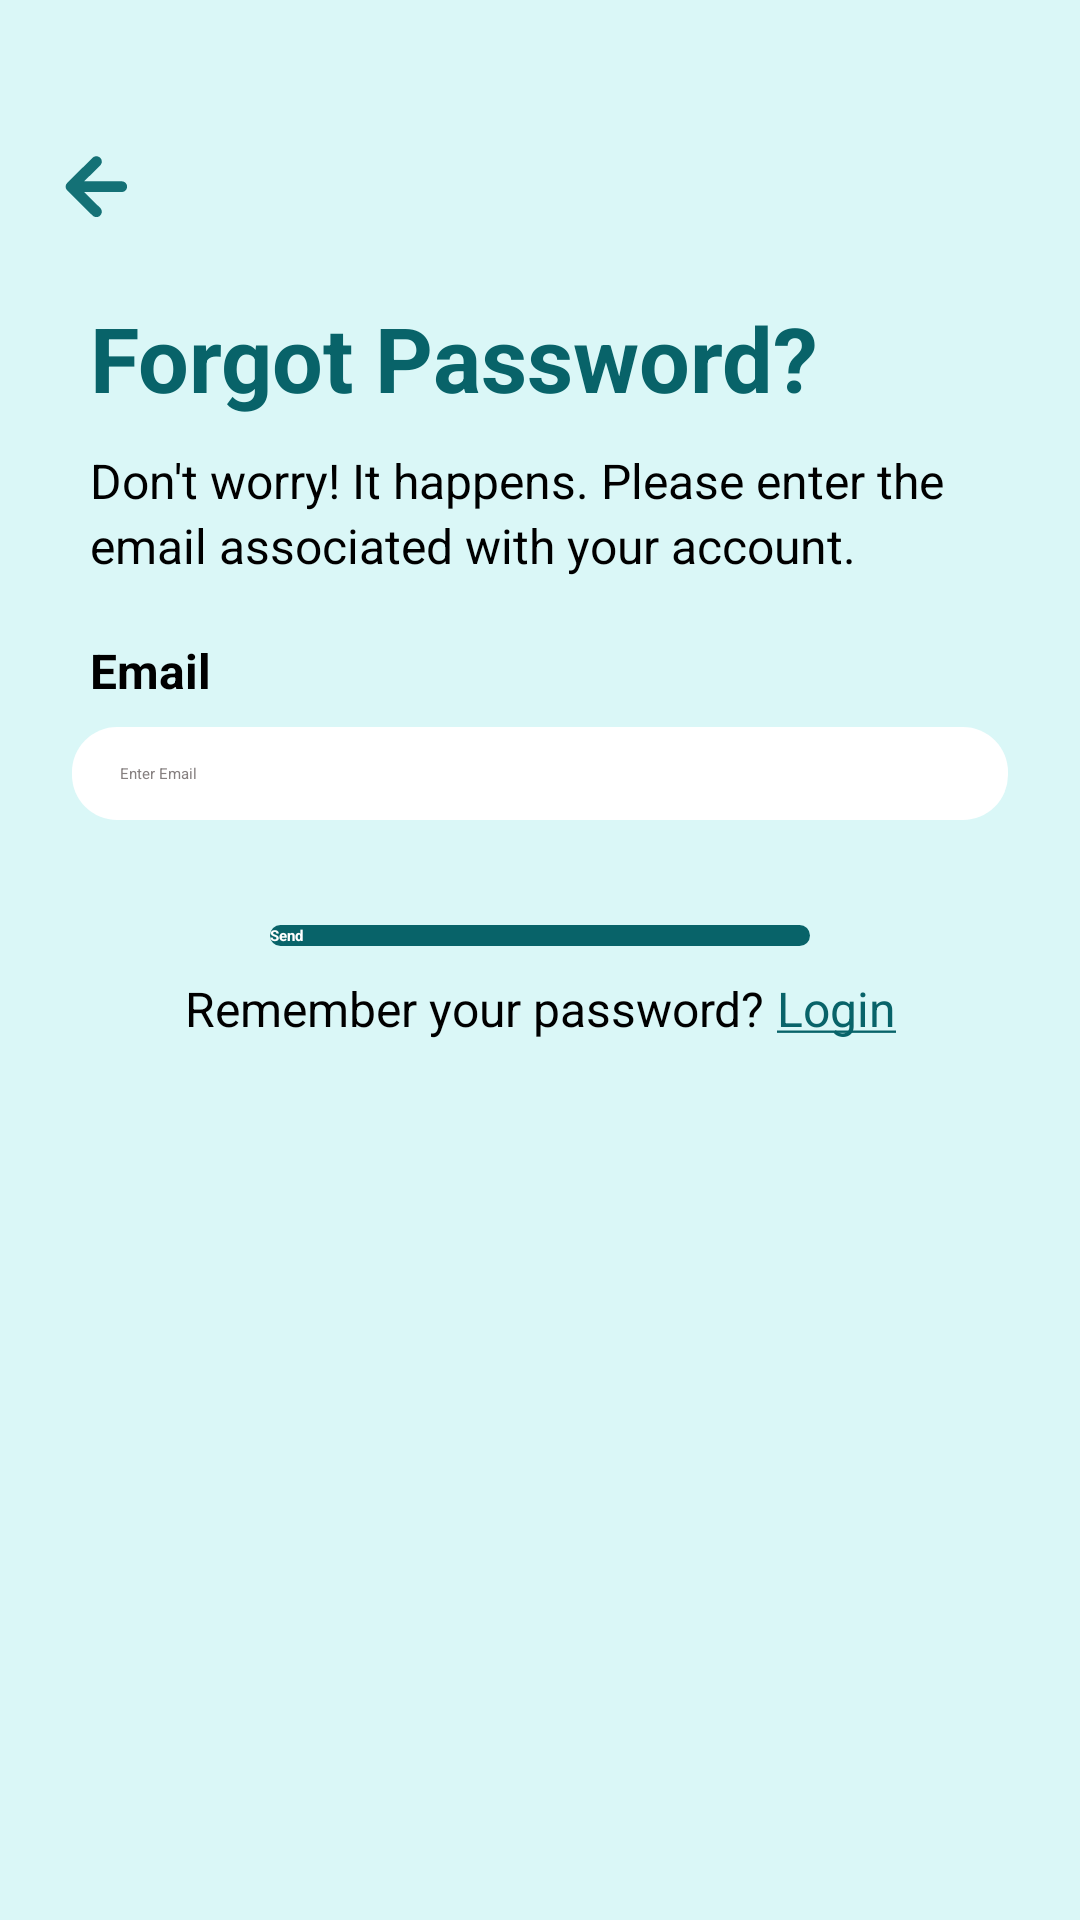

Icon click points for this 1080px×1920px phone screenshot, format point (x, y):
arrow back: point (96, 186)
